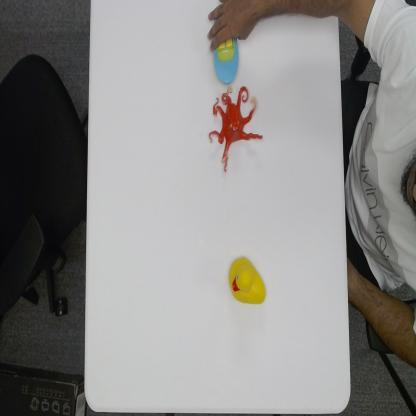Boat: (207, 34, 243, 90)
Duck: (227, 253, 267, 307)
Hand: (204, 0, 276, 48)
Octopus: (207, 86, 265, 172)
